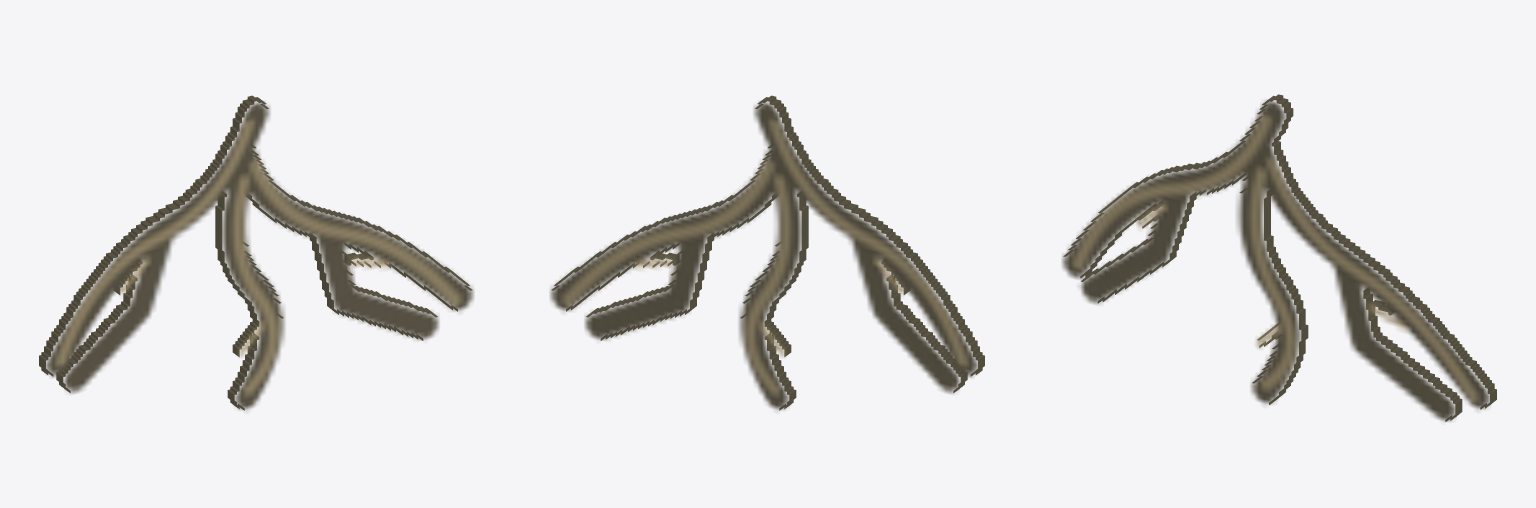
Rendered from RootFan.glb.
3 views of the same model, side by side, from view 1: azimuth 30°, elevation 25°; view 2: azimuth 150°, elevation 25°; view 3: azimuth 330°, elevation 25° (orthographic).
Visible parts, largest first — view 1: Visual; view 2: Visual; view 3: Visual.
Boxes of the visible parts, left/top/right/bottom form: Visual: left=39, top=95, right=473, bottom=410; Visual: left=550, top=95, right=984, bottom=410; Visual: left=1062, top=94, right=1496, bottom=422.
Size of the model in its own units: 3.2 by 2.3 by 0.08.
Materials: 3 (2 with a texture image).
